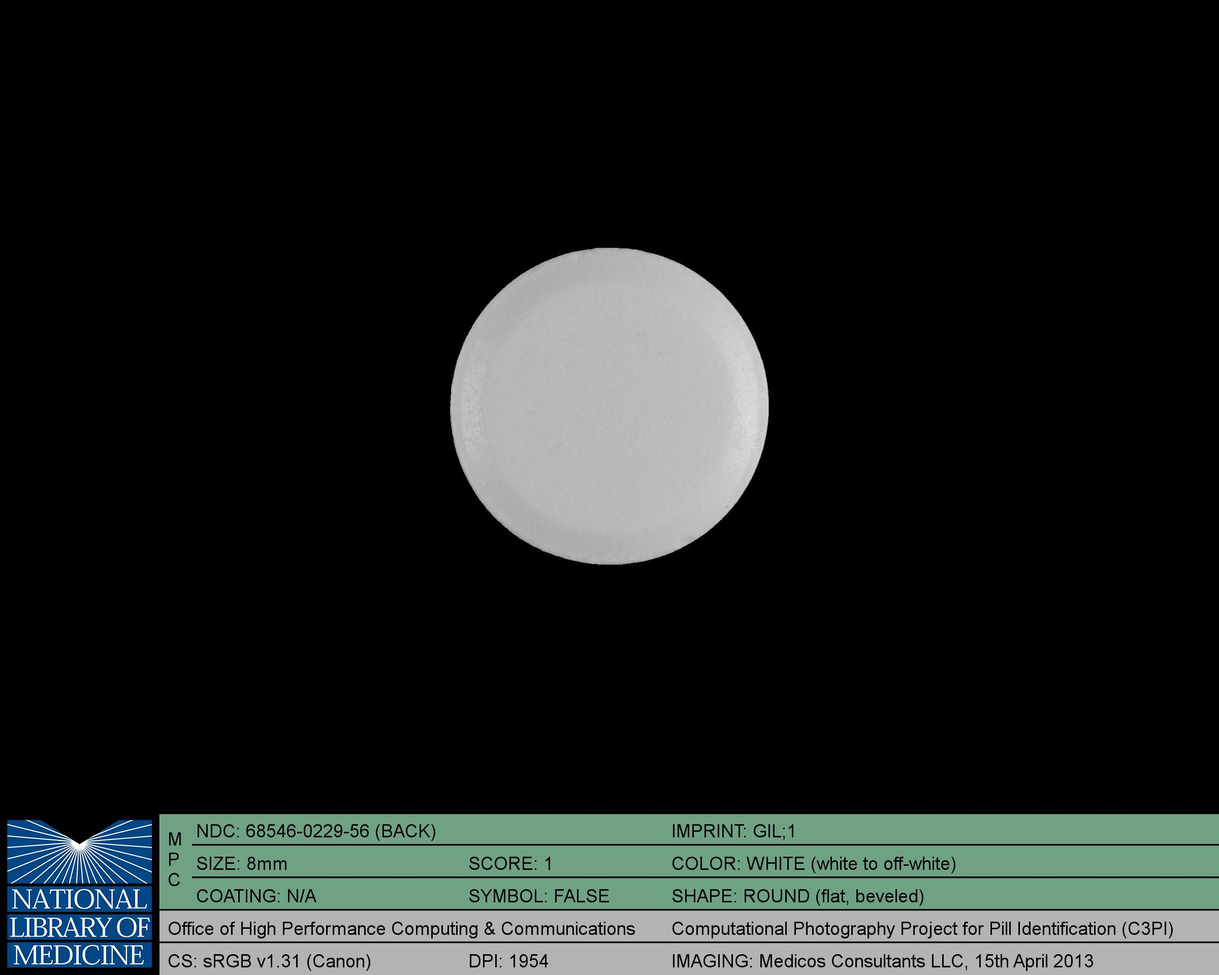Pill: (437, 234, 784, 577)
